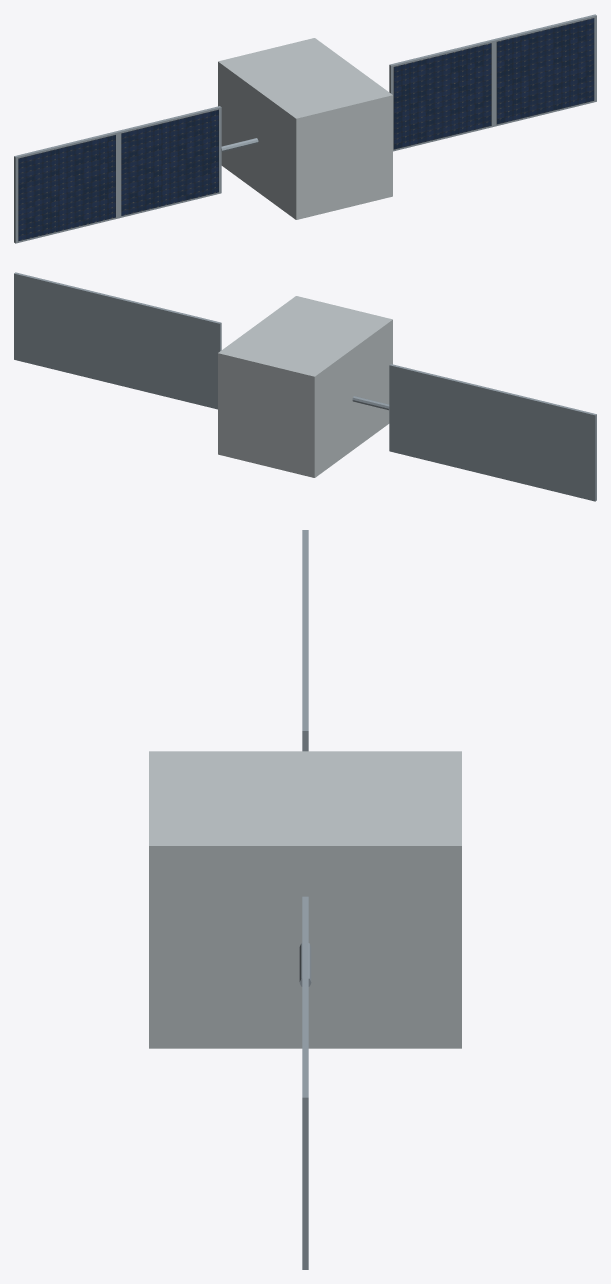
Rendered from ref-triton-2-46273.glb.
3 views of the same model, one above another, from view 1: azimuth 30°, elevation 25°; view 2: azimuth 150°, elevation 25°; view 3: azimuth 270°, elevation 25° (orthographic). The views are drawn at different scales.
Visible parts, largest first — view 1: Photovoltaic laminates (×4), Spacecraft body, Array frame (×4); view 2: Array frame (×4), Spacecraft body; view 3: Spacecraft body, Array frame.
Part boxes in pixels (box(x1,y1,x2,y2)): Photovoltaic laminates (×4): box(18, 18, 594, 241); Spacecraft body: box(218, 38, 392, 219); Array frame (×4): box(14, 14, 596, 243); Array frame (×4): box(14, 272, 596, 501); Spacecraft body: box(218, 296, 392, 477); Spacecraft body: box(149, 751, 461, 1048); Array frame: box(302, 997, 308, 1269).
Bounding box in the file's own units: 3 × 0.5 × 0.7.
Materials: 3 (1 with a texture image).
